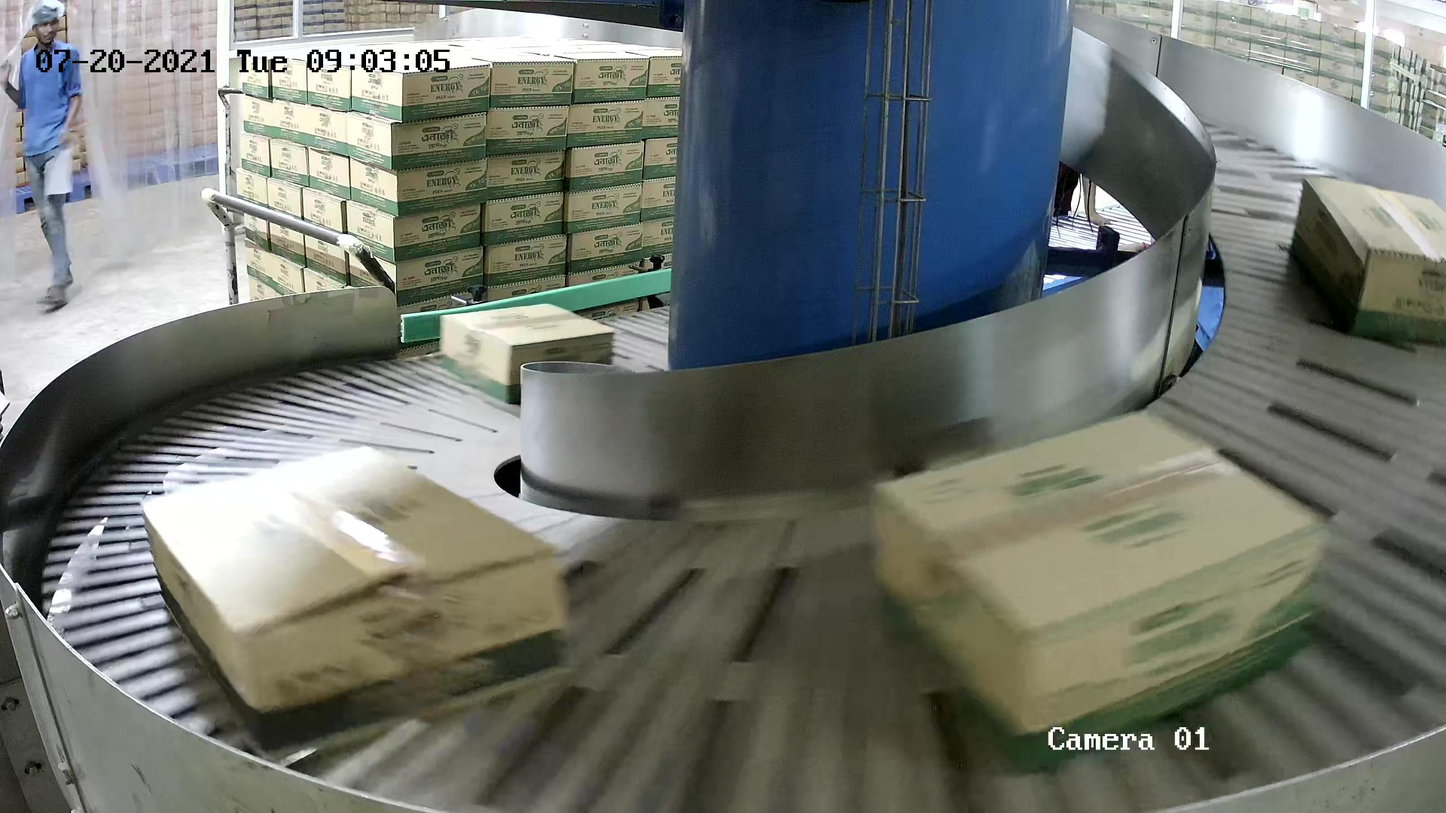Box: (865, 401, 1336, 773), (142, 446, 574, 759), (1289, 175, 1446, 347), (436, 299, 625, 409)
